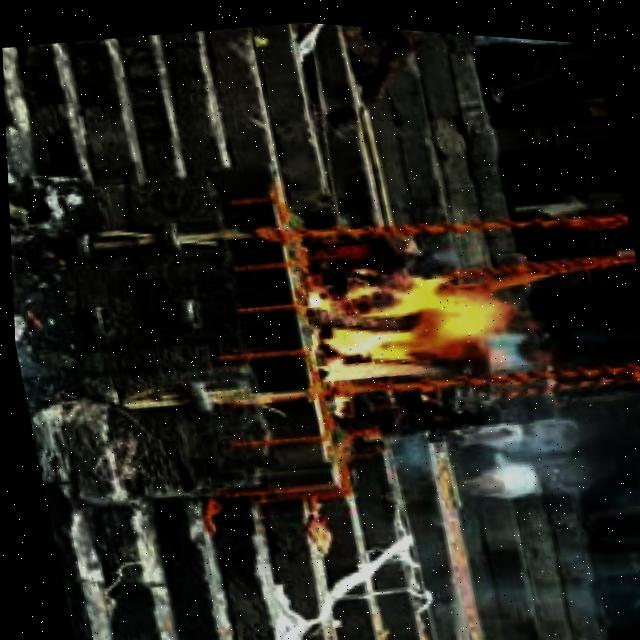Fire: (294, 240, 531, 402)
